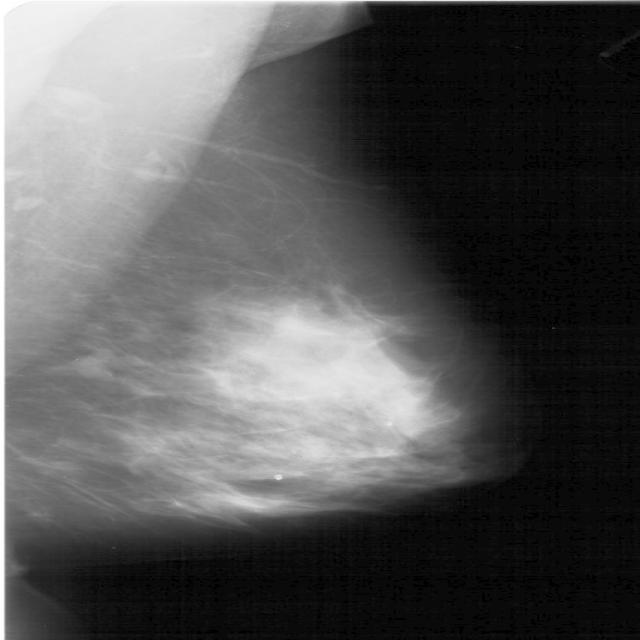tumour: (64, 354, 110, 379)
